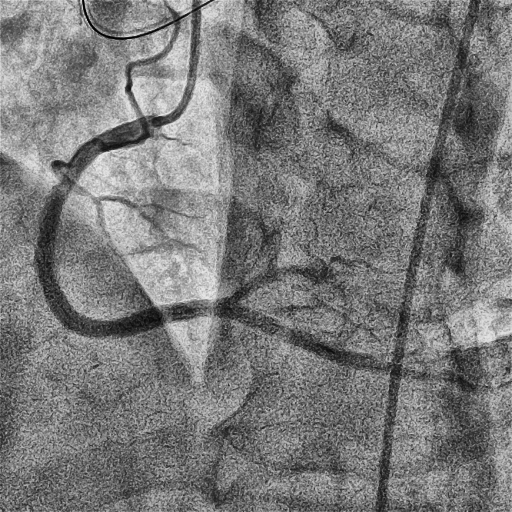pborca: (225, 265, 332, 305)
pda: (233, 307, 490, 396)
rca: (34, 115, 240, 339)
